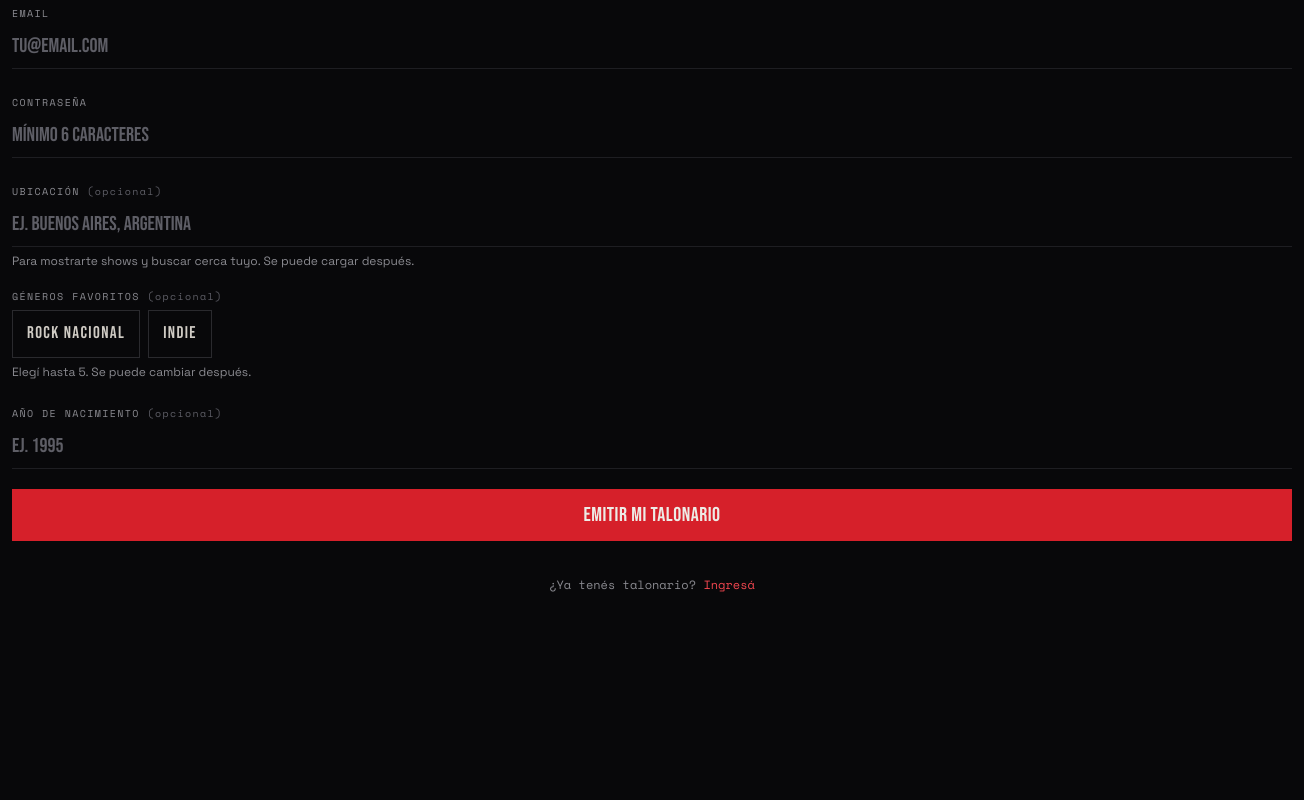
Test: SignupForm › surfaces the bad-year error message returned by the signup action
Step 1. Type "new@example.com" into the field labelled "Email" → point(652, 46), box x1=12 y1=24 x2=1292 y2=69
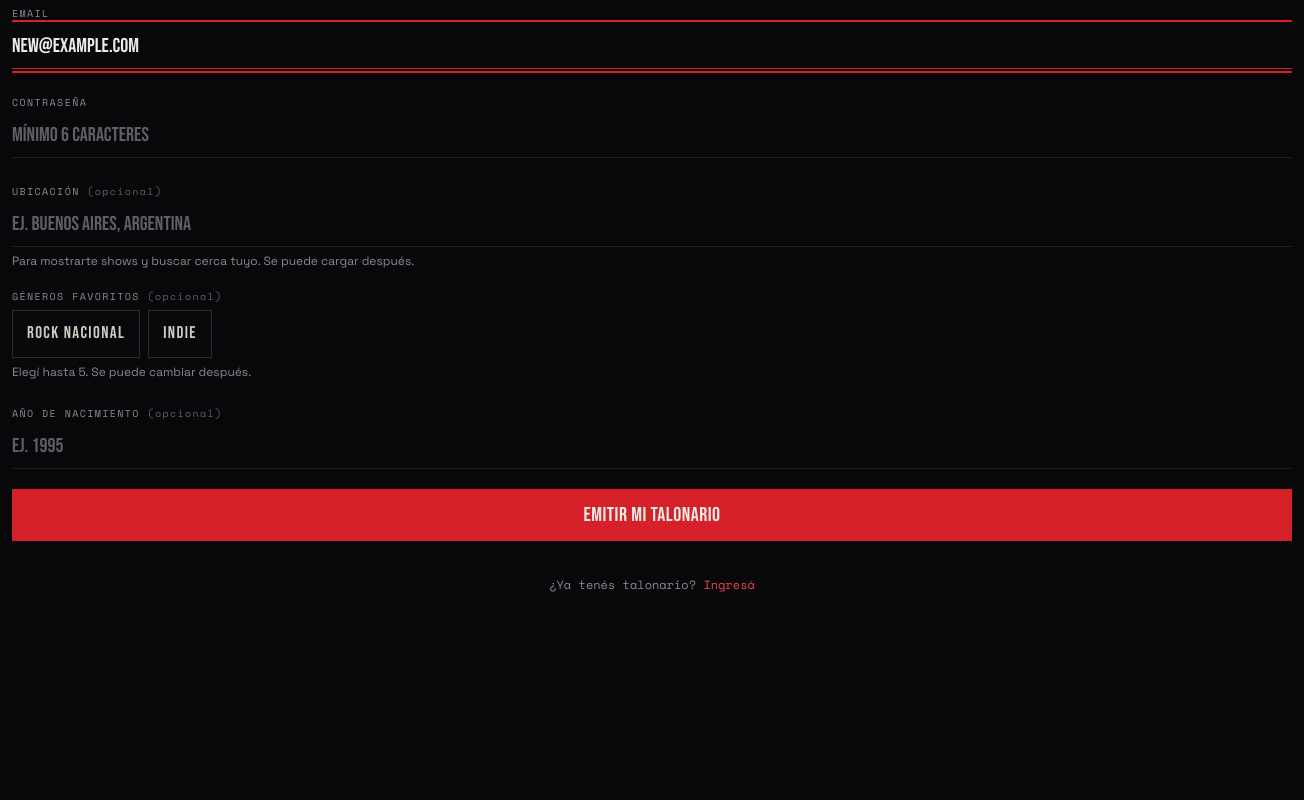
Step 2. Type "secret123" into the password field labelled "Contraseña" → point(652, 136), box x1=12 y1=113 x2=1292 y2=158
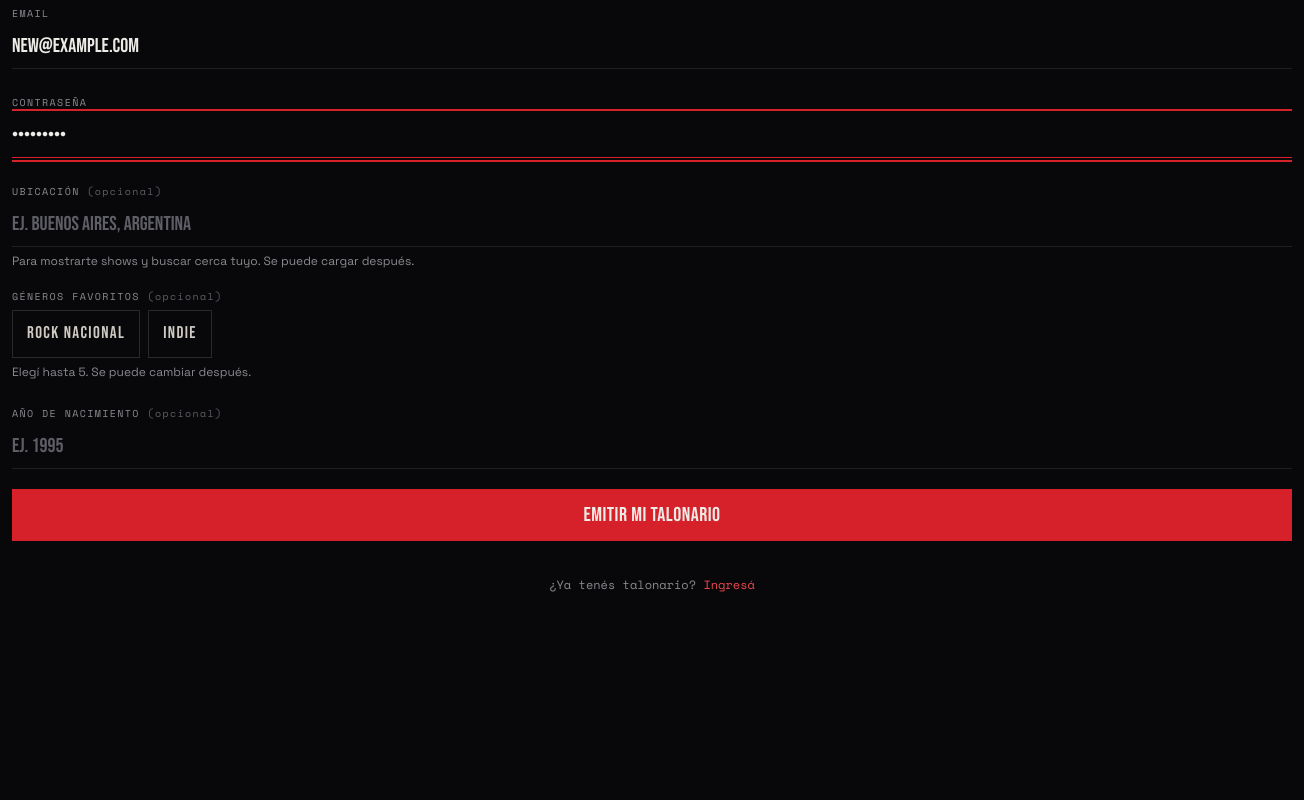
Step 3. Type "1850" into the number field labelled "Año de nacimiento (opcional)" → point(652, 446), box x1=12 y1=424 x2=1292 y2=469
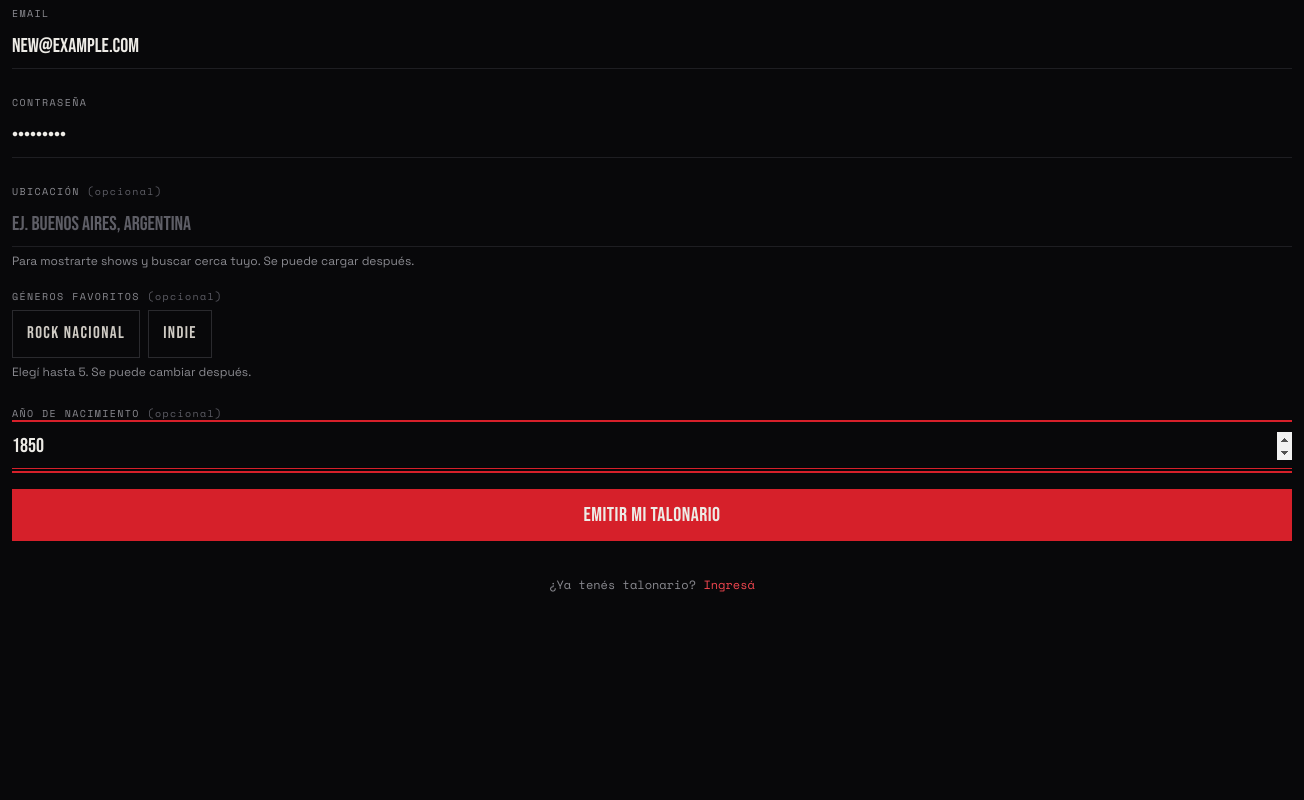
Step 4. Click the button "Emitir mi talonario" → point(652, 515), box x1=12 y1=489 x2=1292 y2=541
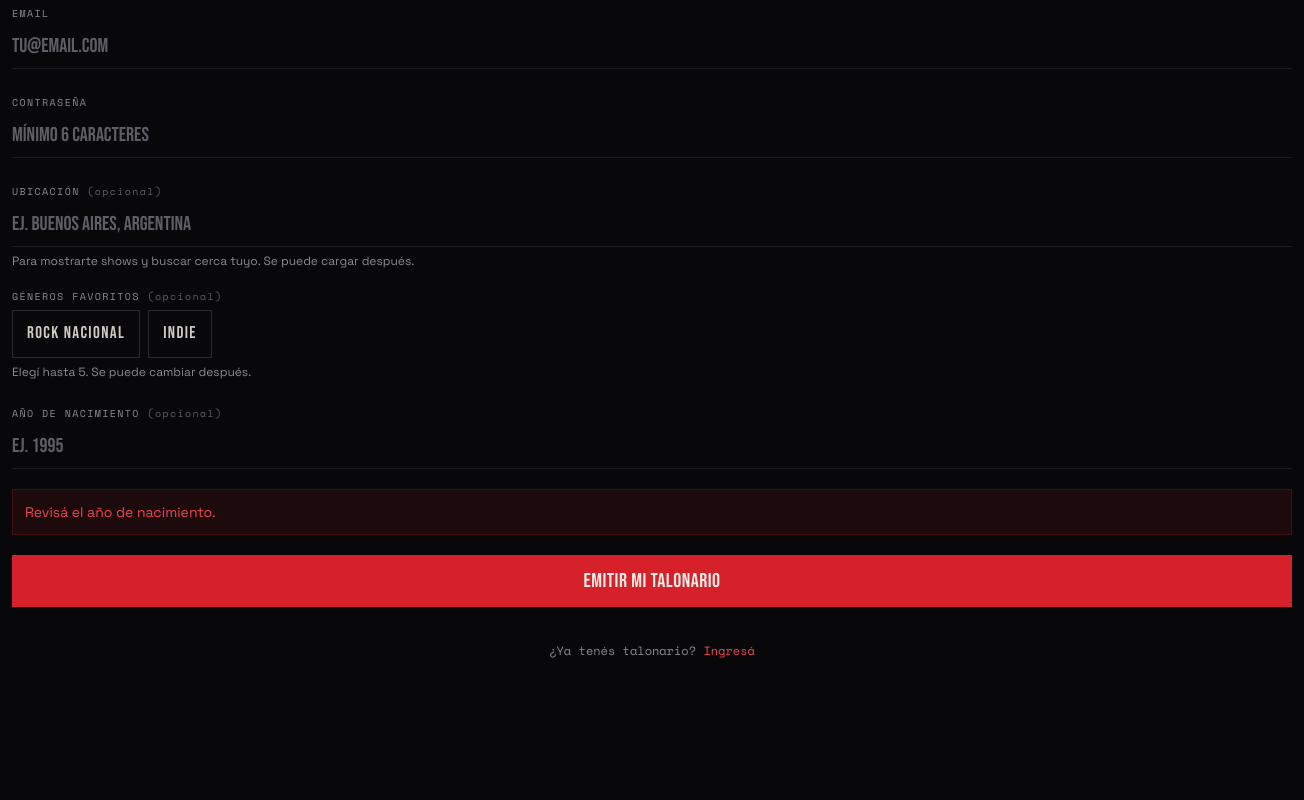
expect the message reads "Revisá el año de nacimiento.": met, box x1=25 y1=503 x2=216 y2=521
